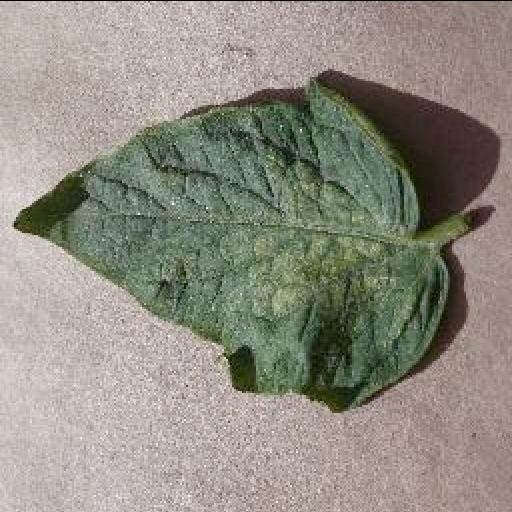disease_tomato: (10, 76, 454, 414)
